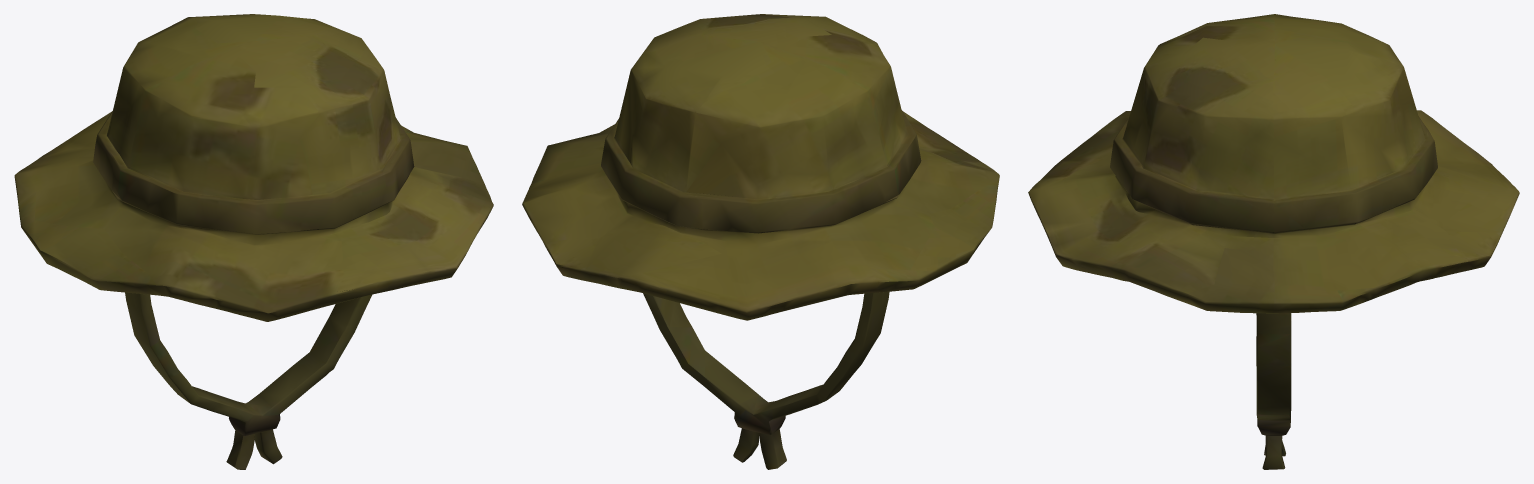
Rendered from hat_gr_boonie_idle.glb.
3 renders of one model, left to right at view 1: azimuth 30°, elevation 25°; view 2: azimuth 150°, elevation 25°; view 3: azimuth 270°, elevation 25°, orthographic.
Parts seen in each view (by area): view 1: hat_gr_boonie; view 2: hat_gr_boonie; view 3: hat_gr_boonie.
Boxes of the visible parts, x1,y1,x2,y2 form: hat_gr_boonie: [14, 14, 493, 469]; hat_gr_boonie: [522, 14, 999, 469]; hat_gr_boonie: [1028, 14, 1519, 469].
Size of the model in its own units: 0.2966 by 0.2797 by 0.2977.
1 material, 1 textured.
